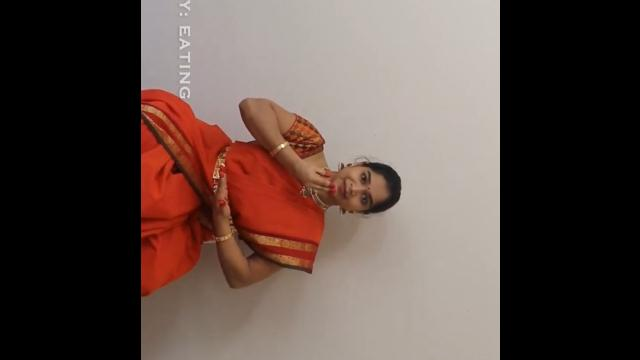padamkosh: (277, 154, 349, 204)
